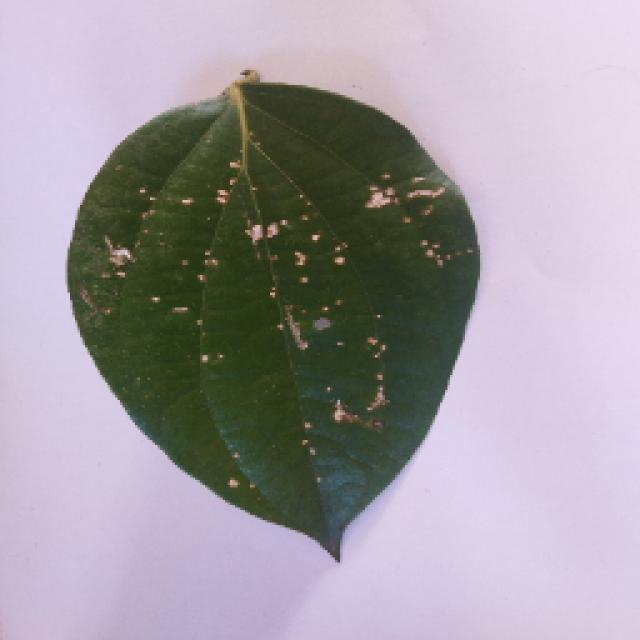pollu-disease: (52, 70, 490, 560)
